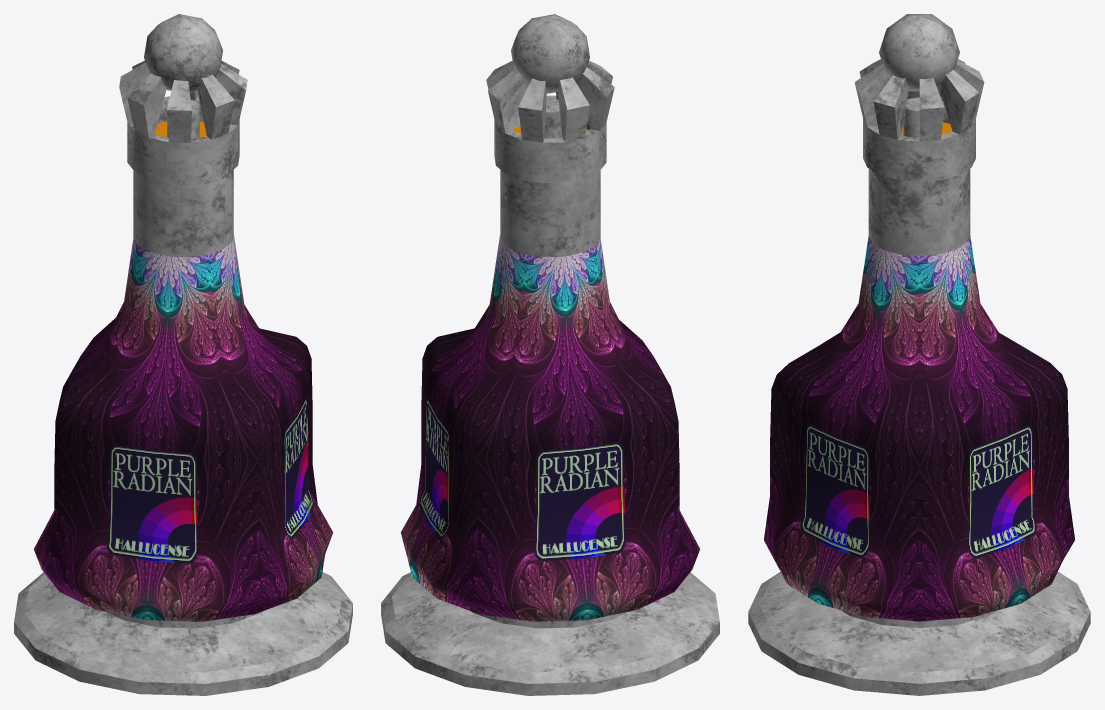
The model's file is hallucense.fbx.
The picture shows the model from 3 angles, left to right: view 1: azimuth 30°, elevation 25°; view 2: azimuth 150°, elevation 25°; view 3: azimuth 270°, elevation 25°; orthographic projection.
Parts seen in each view (by area): view 1: Cylinder; view 2: Cylinder; view 3: Cylinder.
Part boxes in pixels (x1,y1,x2,y2): Cylinder: (14, 14, 352, 695); Cylinder: (381, 14, 719, 695); Cylinder: (748, 14, 1090, 695).
Bounding box in the file's own units: 200 × 392 × 200.
Materials: 2 (1 with a texture image).
